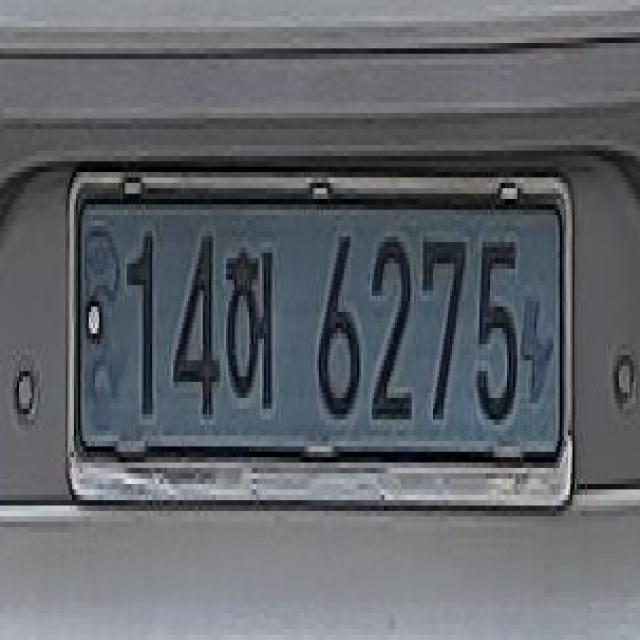1: (116, 204, 171, 441)
2: (366, 220, 418, 436)
4: (173, 210, 222, 436)
5: (473, 220, 528, 436)
6: (312, 215, 366, 430)
7: (418, 220, 471, 436)
heo: (222, 226, 281, 430)
license_plate: (63, 156, 574, 516)
